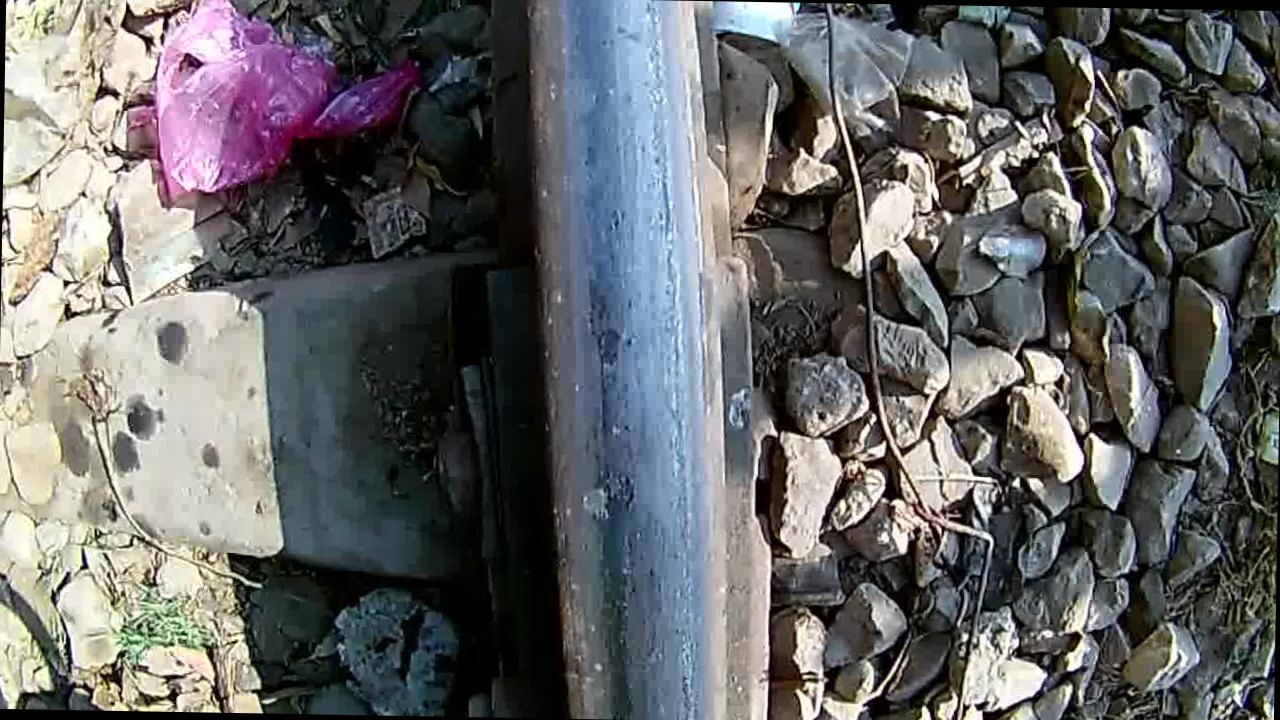crack: (522, 1, 719, 720)
